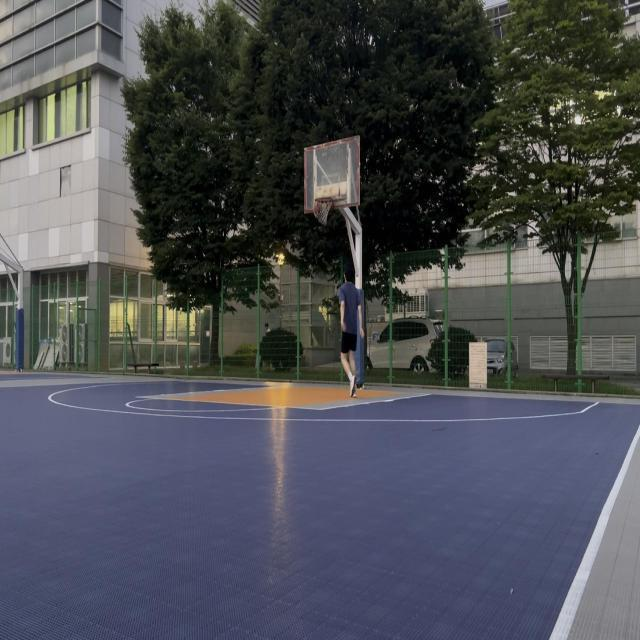Ball: (313, 202, 323, 218)
